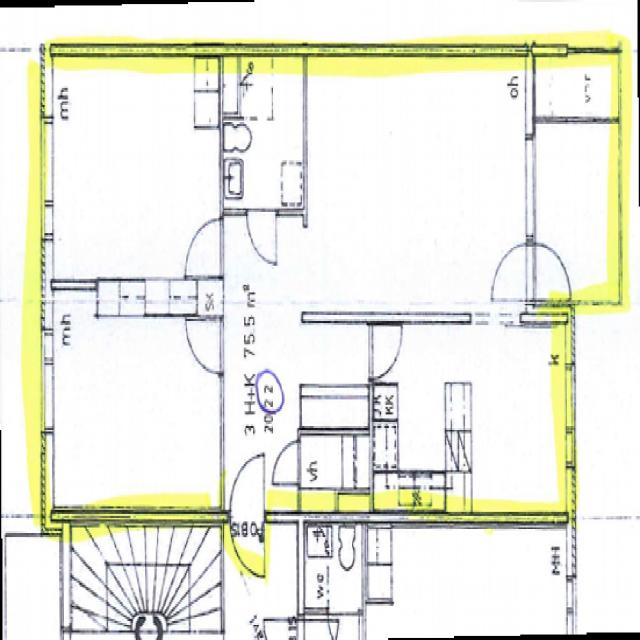door: (230, 513, 264, 582), (493, 246, 536, 300), (184, 218, 224, 276), (230, 458, 264, 526), (526, 246, 568, 300), (189, 321, 224, 372), (370, 327, 405, 378), (247, 209, 276, 264), (271, 443, 301, 485)
